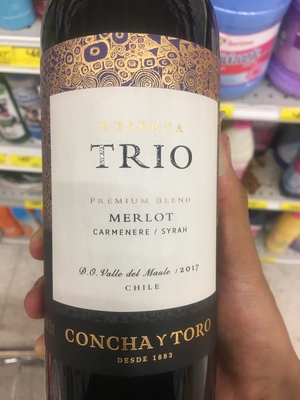trio merlot: (35, 10, 229, 400)
